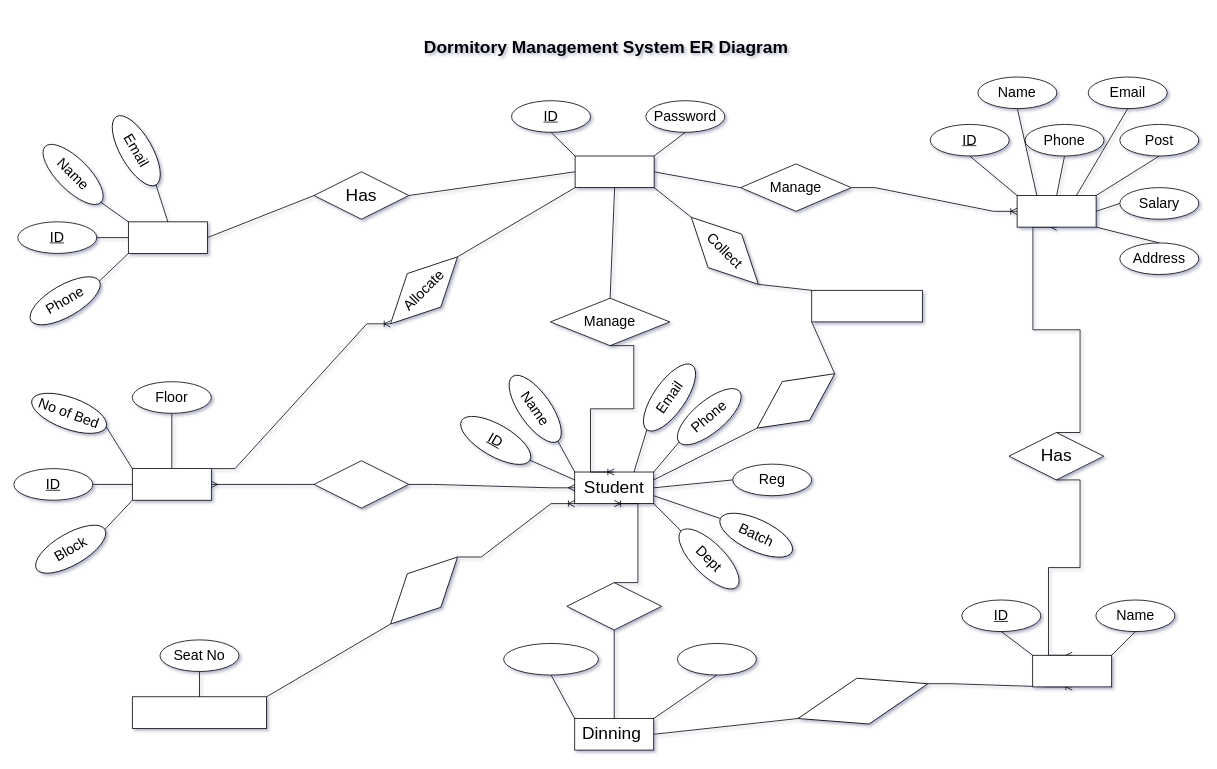
This 1217x769 diagram has some shape labels left out. The shapes that lost their labels are listed below. From the top down, each one's box as (x1, y1, x2, y2) in pixels, then its label:
(574, 155, 654, 188): Admin
(1016, 195, 1096, 227): Staff
(128, 221, 207, 253): Provost
(811, 290, 922, 322): Hall Charge
(743, 353, 848, 448): Pay
(132, 468, 211, 500): Room
(313, 460, 409, 508): Hold
(373, 539, 475, 641): Read
(566, 582, 662, 630): Meal
(503, 643, 598, 675): Meal Type
(677, 643, 756, 675): Menu
(1032, 655, 1112, 687): Chef
(132, 696, 267, 728): Reading Room
(791, 660, 934, 742): Prepare meal
